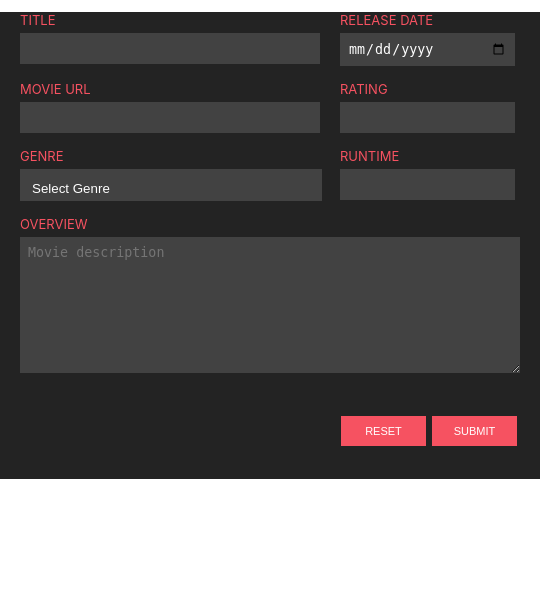
Test case: Movie Form component tests › renders add movie form empty
Step 1. Click the button "Select Genre" → (71, 189), box [21,170,321,200]
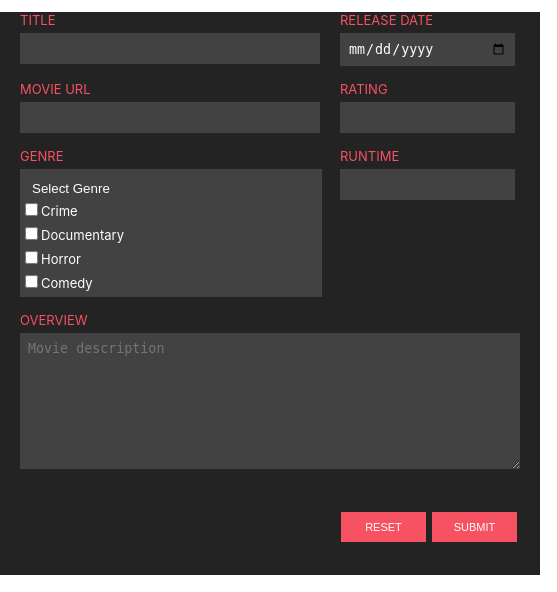
Expected: the checkbox labelled "Crime" is shown, [25,203,38,216]
Expected: the checkbox labelled "Documentary" is shown, [25,227,38,240]
Expected: the checkbox labelled "Horror" is shown, [25,251,38,264]
